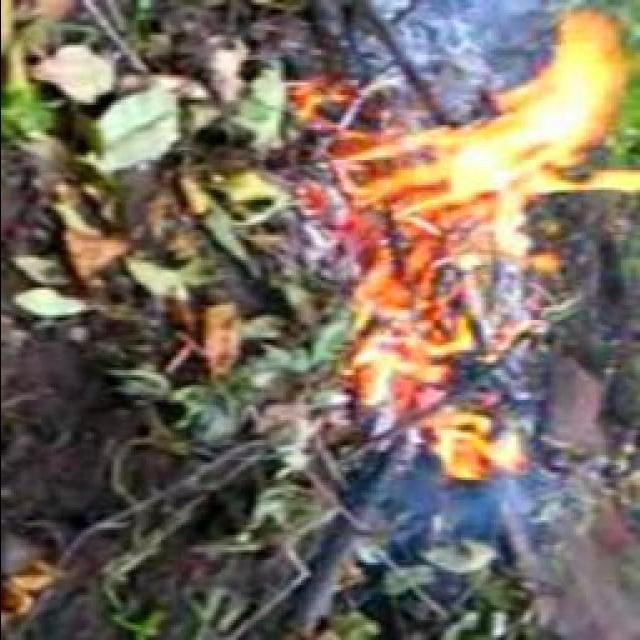Fire: (314, 124, 524, 474), (429, 8, 613, 228)
